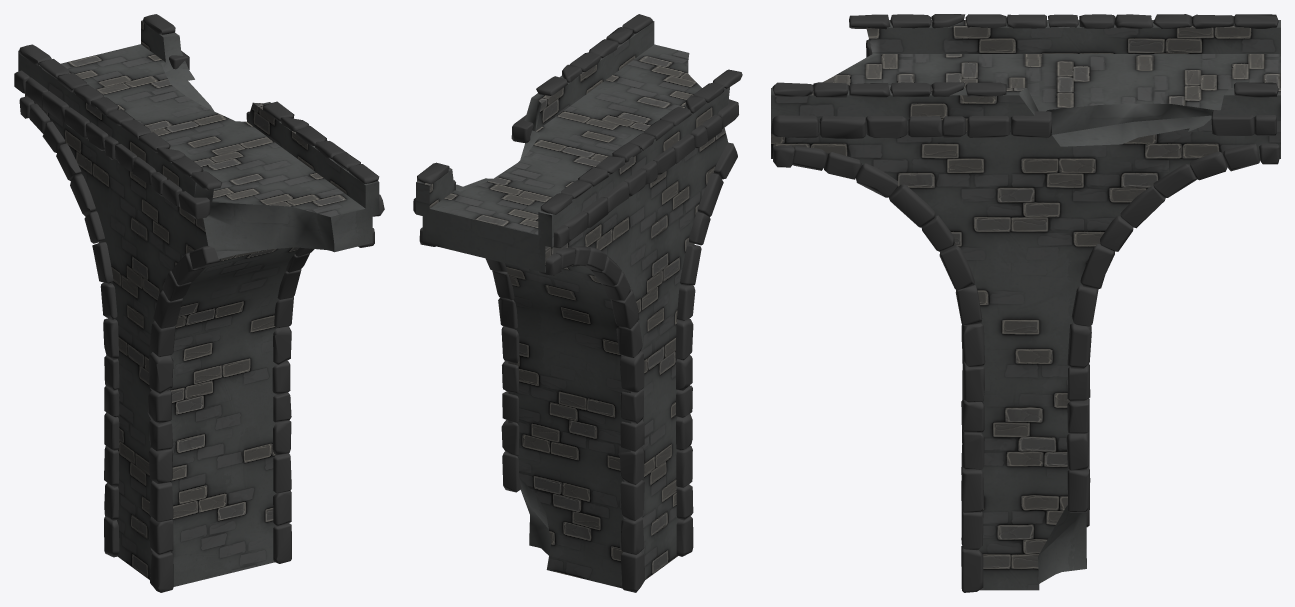
Rendered from SM_Bridge_04.FBX.
3 views of the same model, side by side, from view 1: azimuth 30°, elevation 25°; view 2: azimuth 150°, elevation 25°; view 3: azimuth 270°, elevation 25° (orthographic). The views are drawn at different scales.
Visible parts, largest first — view 1: SM_Bridge_04_LOD0; view 2: SM_Bridge_04_LOD0; view 3: SM_Bridge_04_LOD0.
Part boxes in pixels (left/top/right/bottom): SM_Bridge_04_LOD0: left=14, top=14, right=384, bottom=592; SM_Bridge_04_LOD0: left=413, top=14, right=742, bottom=592; SM_Bridge_04_LOD0: left=771, top=14, right=1280, bottom=592.
Bounding box in the file's own units: 544 × 1401 × 1536.
